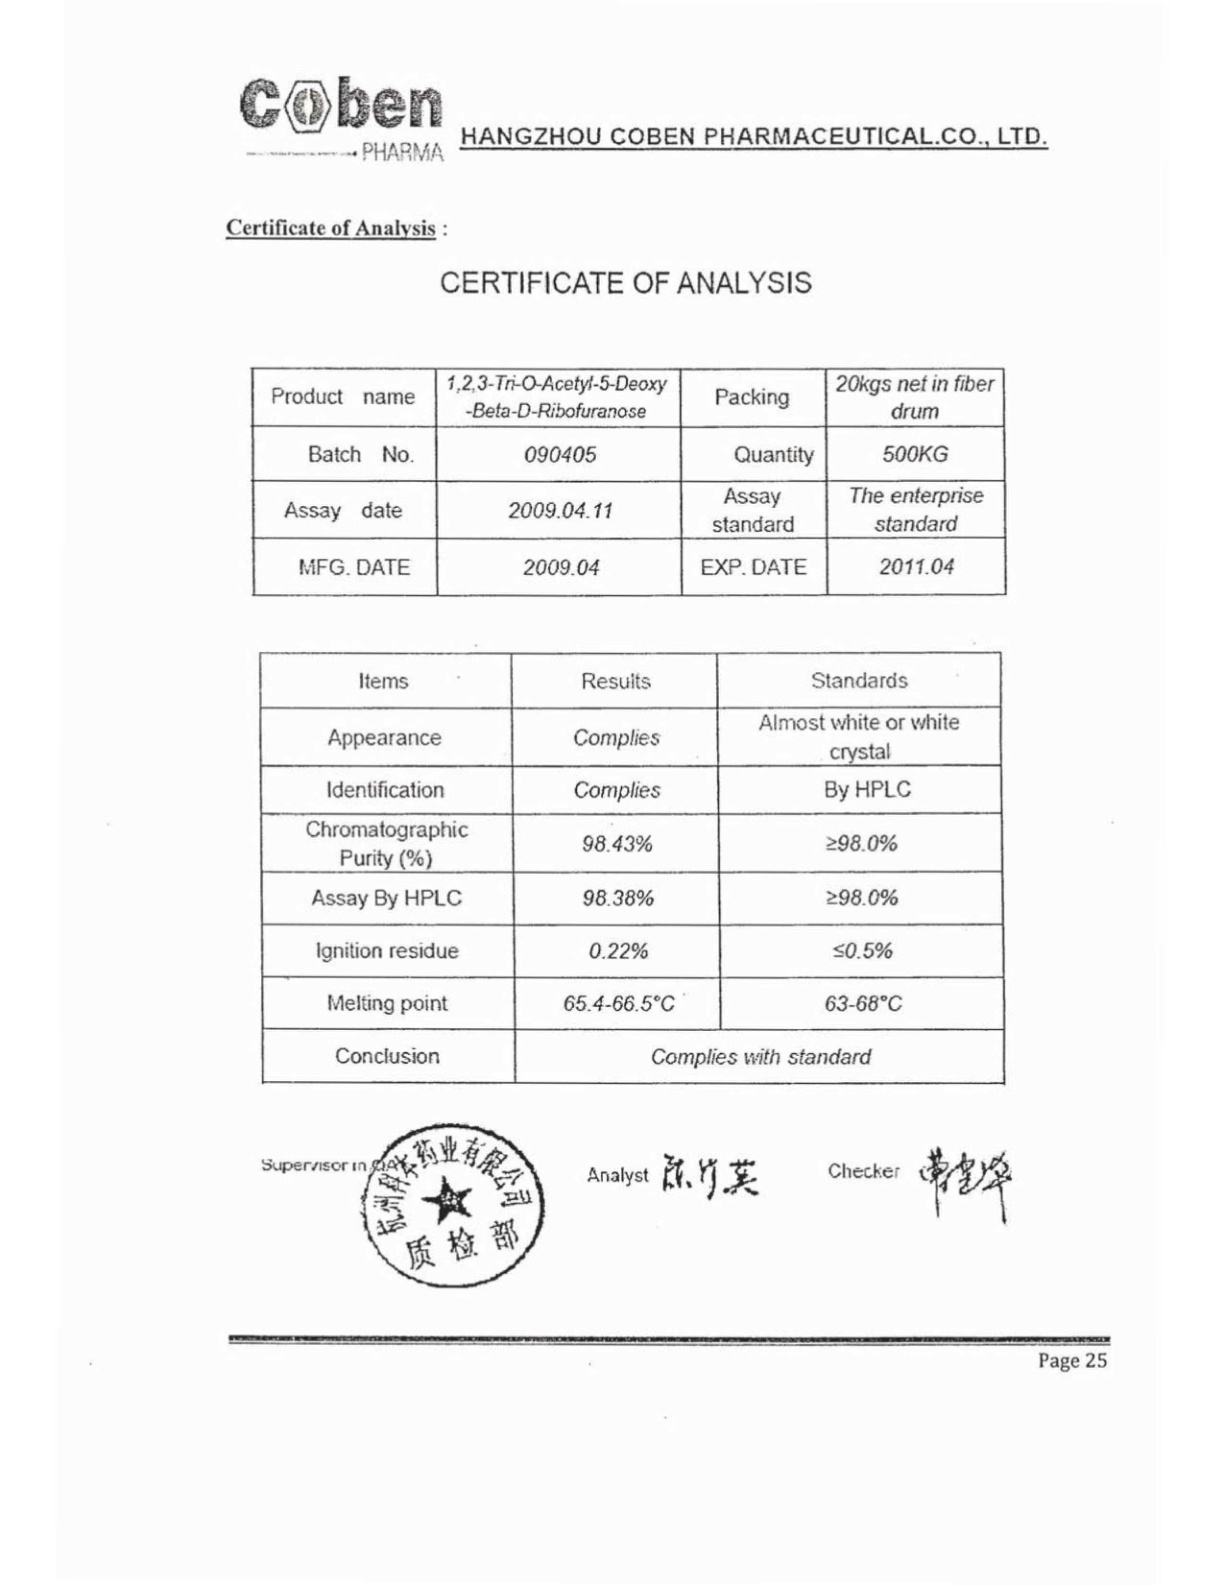full_lined: (249, 365, 1009, 598)
merged_cells: (258, 650, 1008, 1086)
